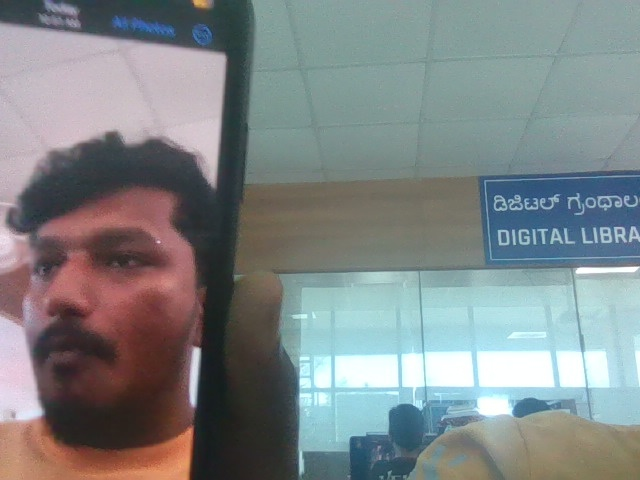fake: (0, 97, 240, 437)
